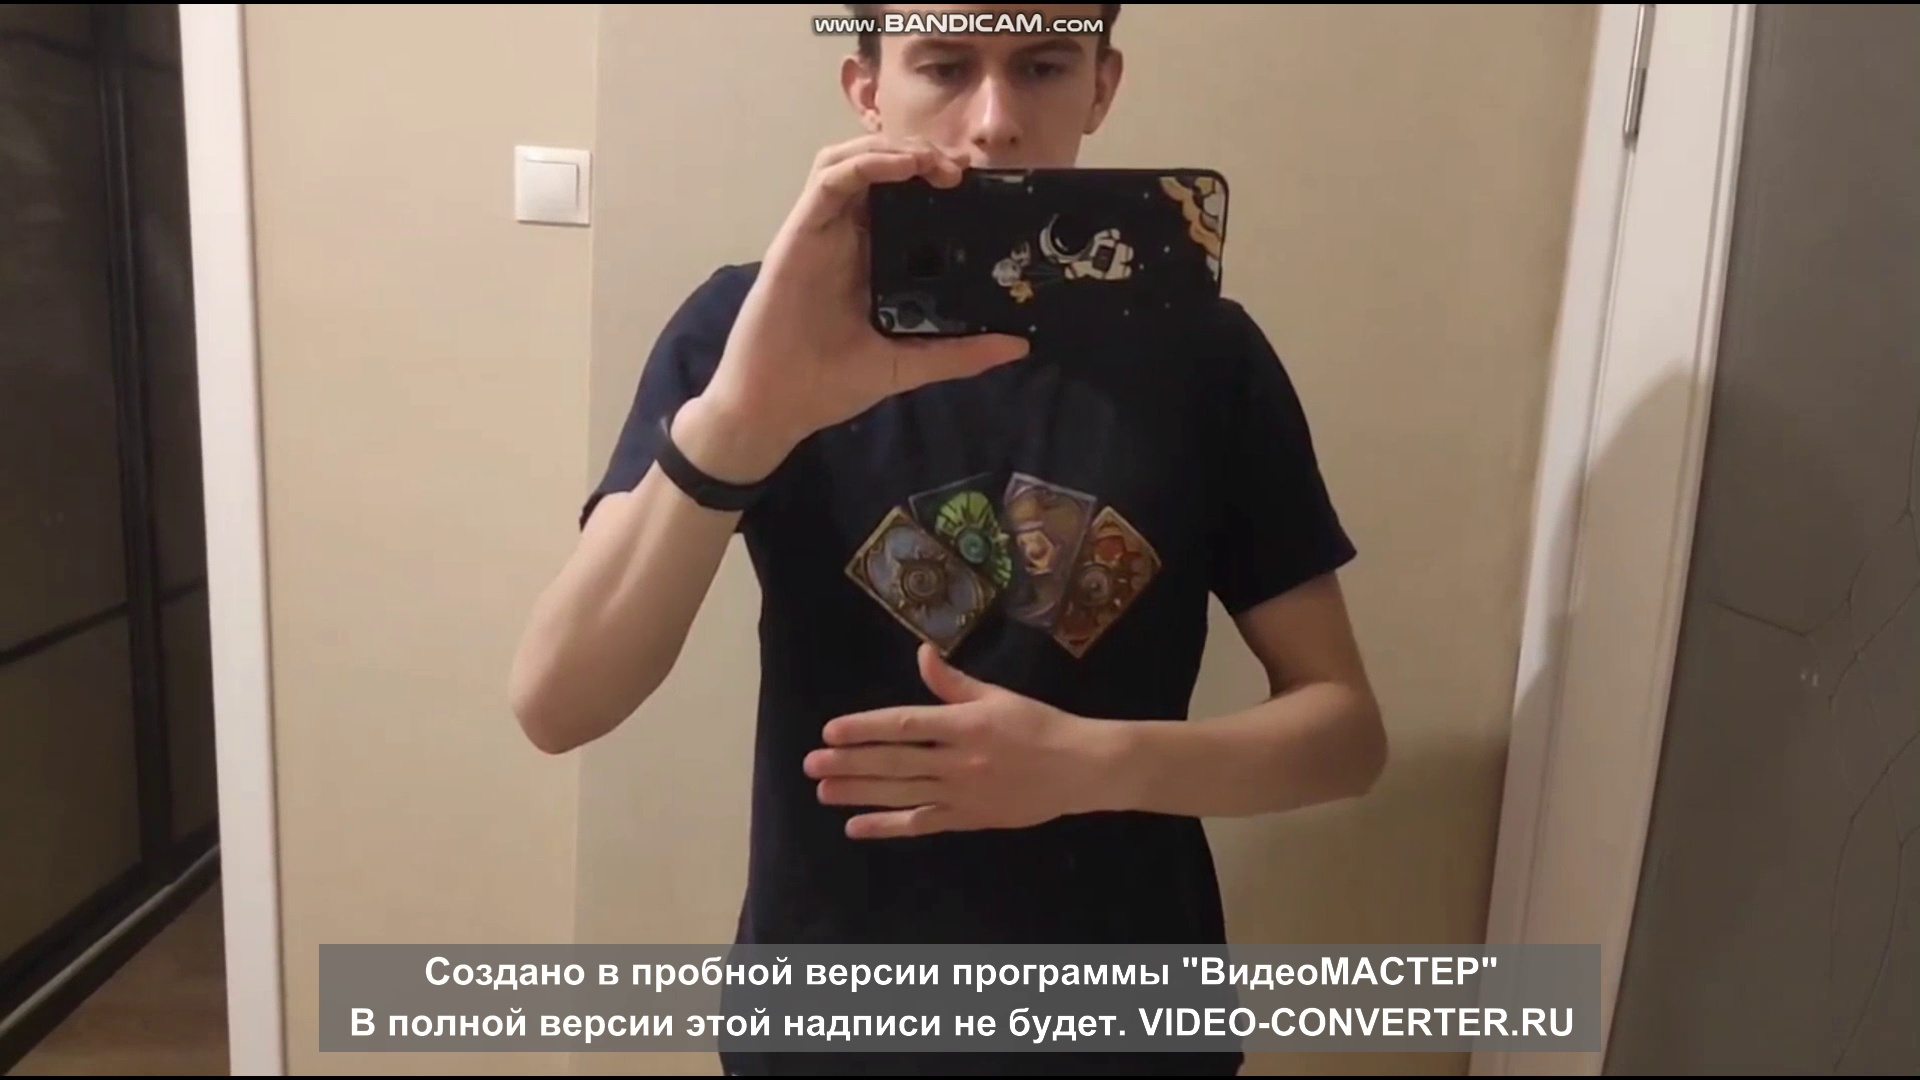Кисть: (798, 633, 1054, 839)
